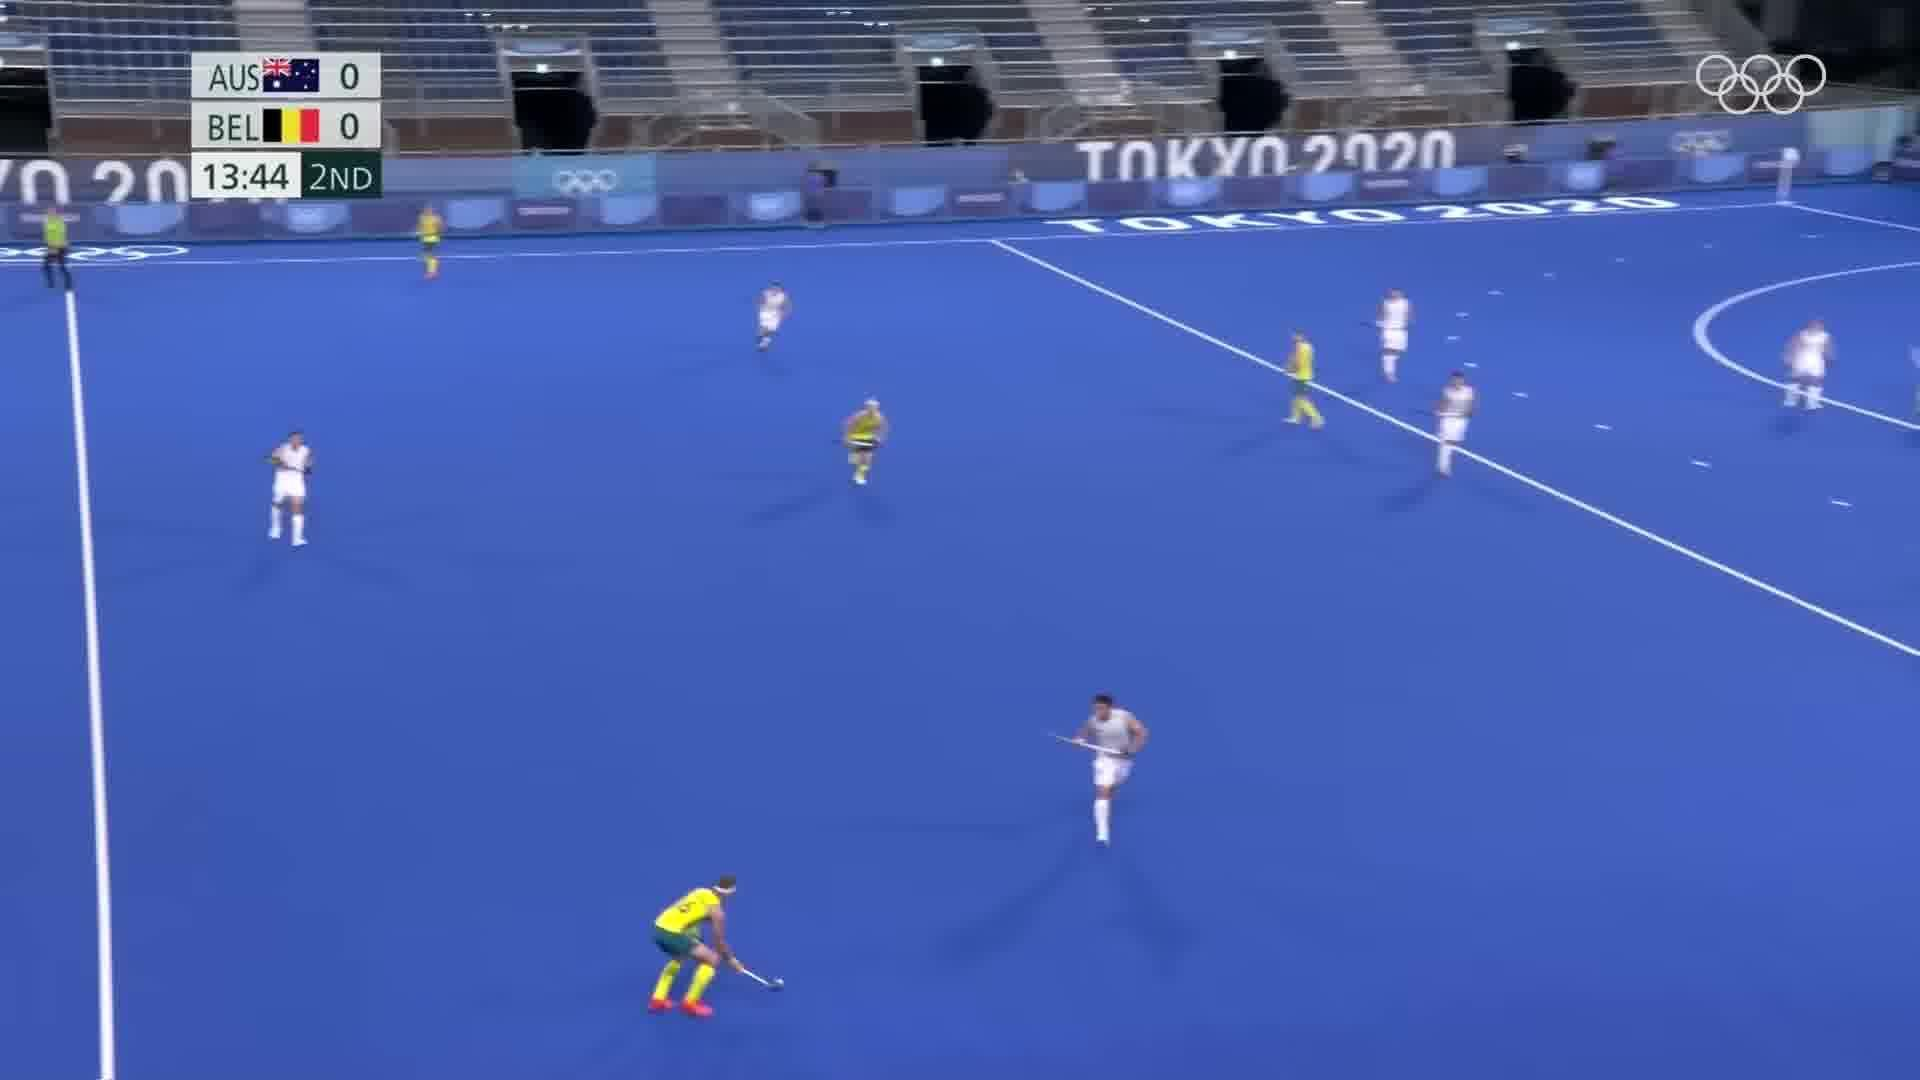ball: (775, 973, 794, 992)
